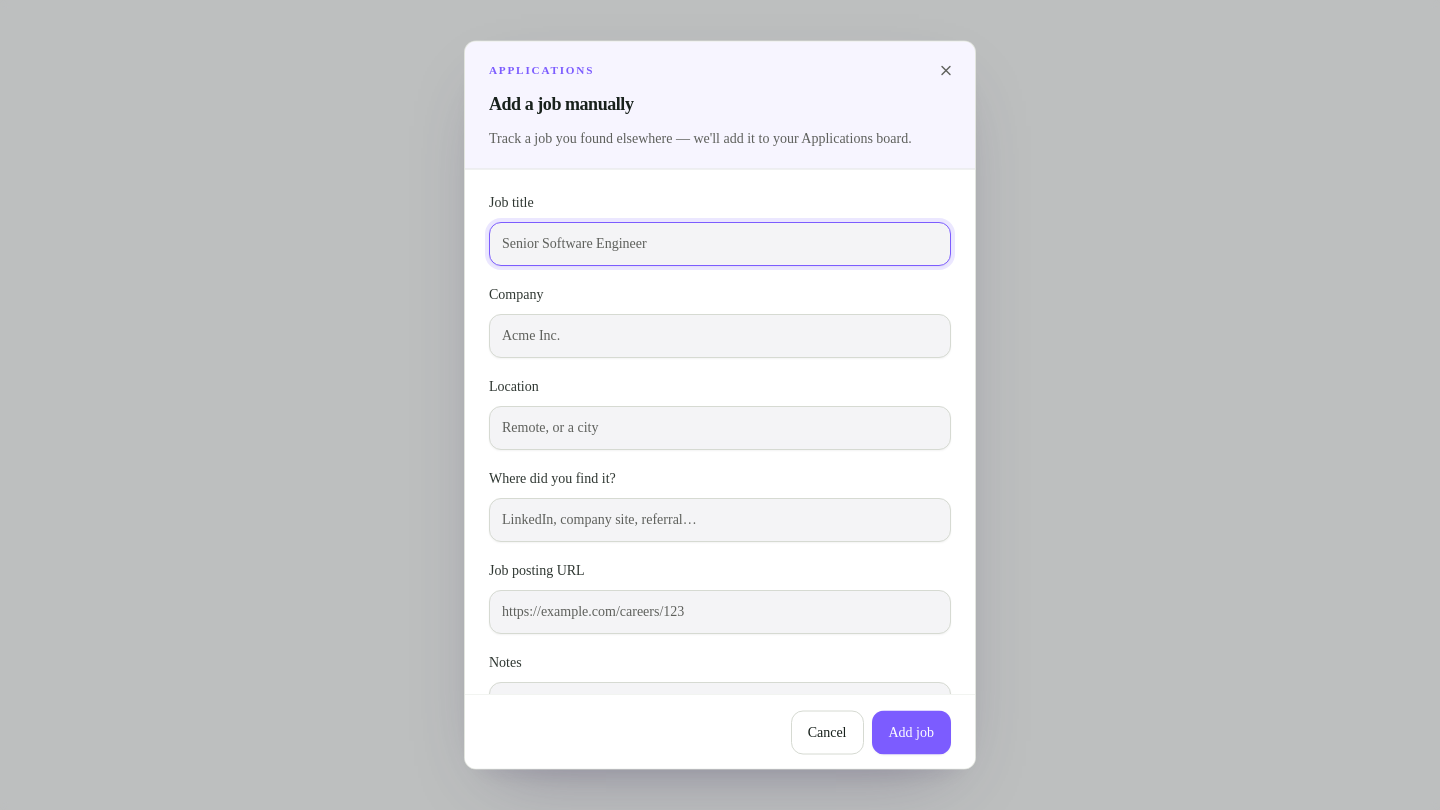
AddManualJobDialog › blocks submission and shows an inline error when the source URL is not a valid URL
The image size is (1440, 810).
In the field labelled "Job title": point(720, 243) [489,221,951,265], type "Senior Engineer"
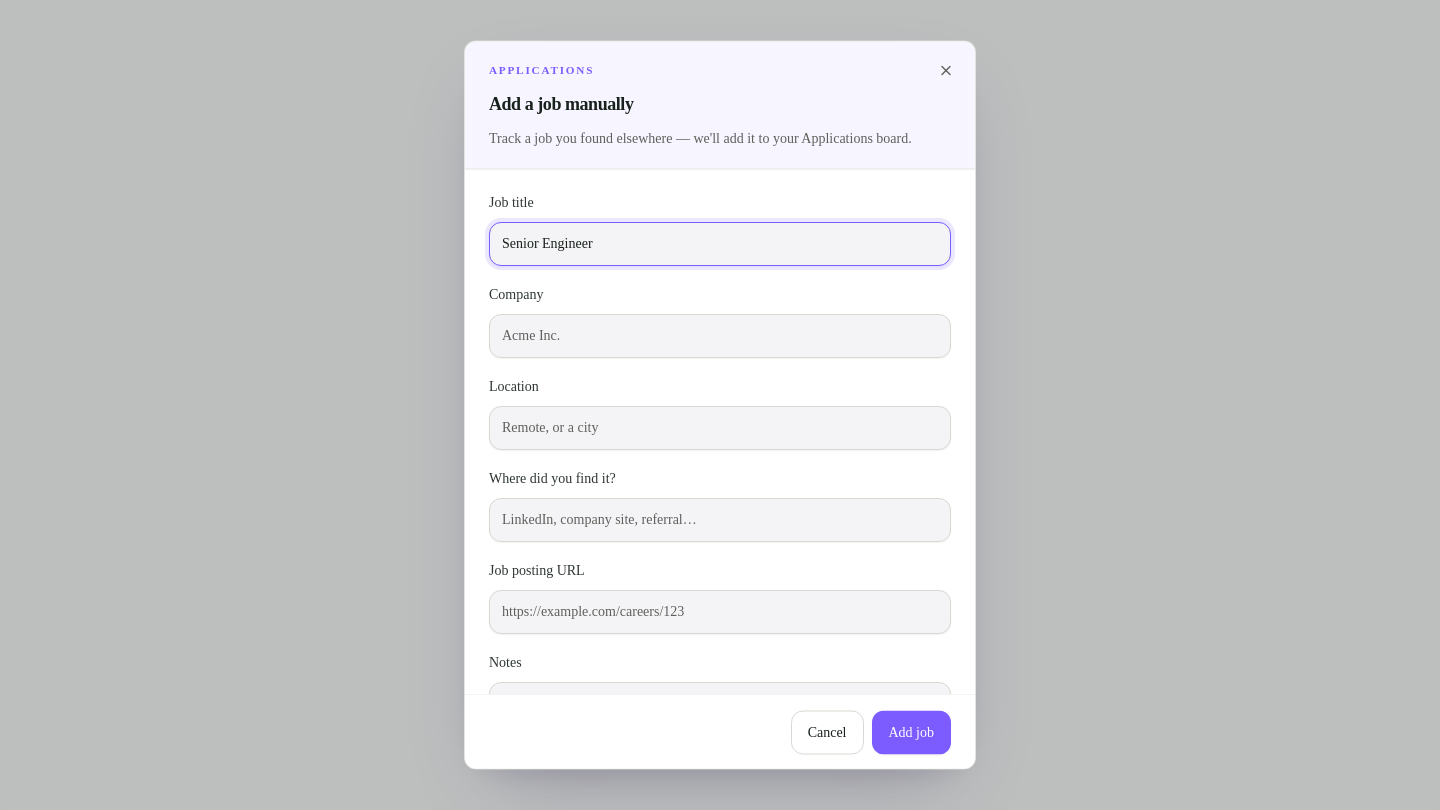
In the field labelled "Company": point(720, 335) [489,313,951,357], type "Acme"
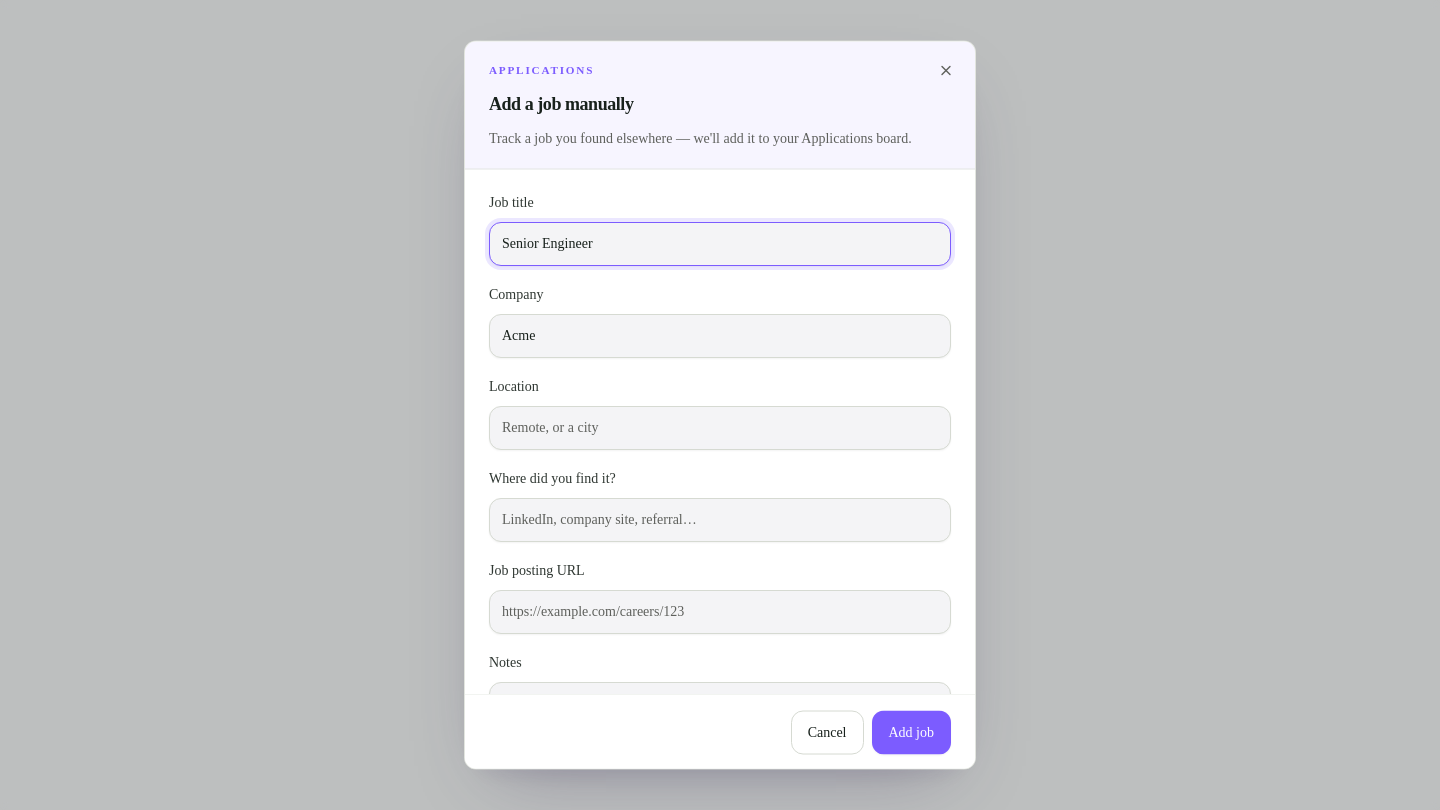
In the field labelled "Job posting URL": point(720, 611) [489,589,951,633], type "not-a-url"
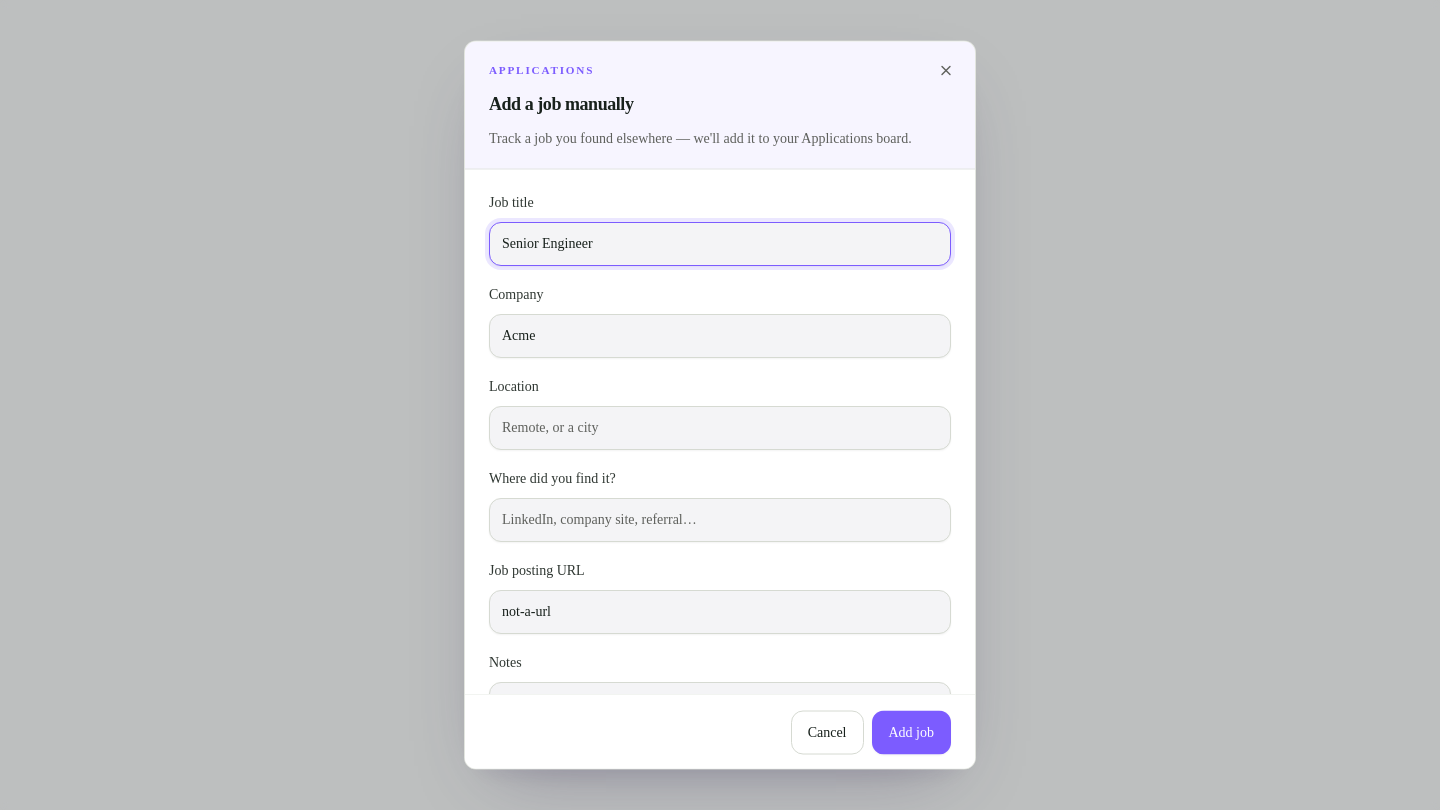
Click the button "Add job": point(911, 732) [872,710,951,754]
(page scrolled)
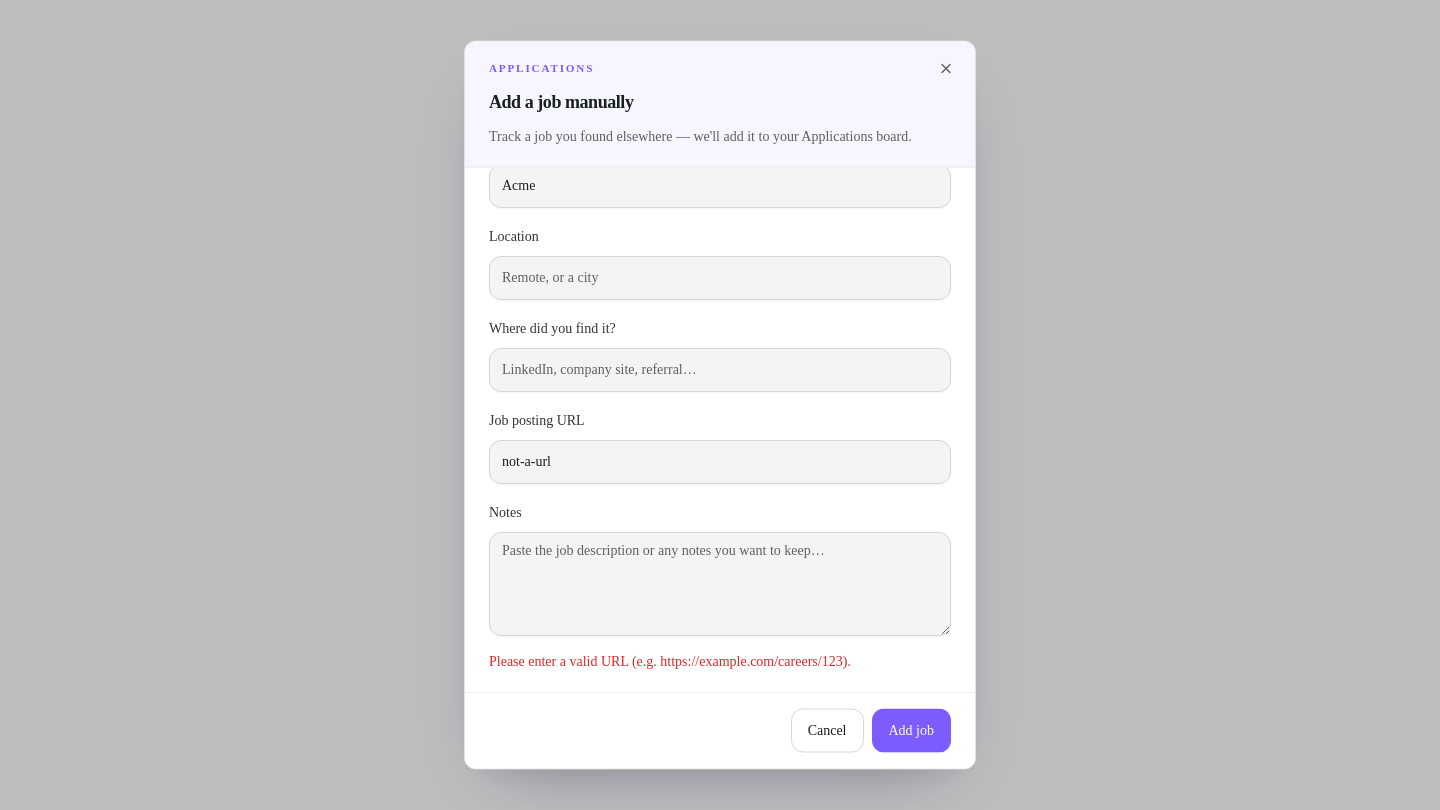
Result: the text "Please enter a valid URL (e.g. https://example.com/careers/123)." is shown at [489,653,851,668]
